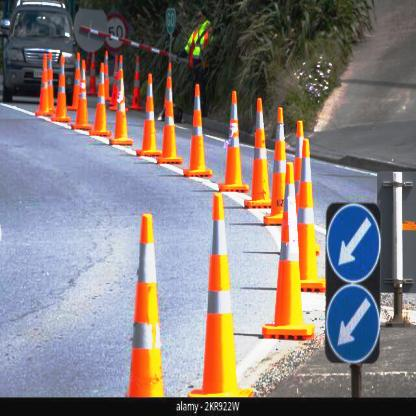Keep left: (317, 283, 382, 368), (327, 206, 382, 288)
